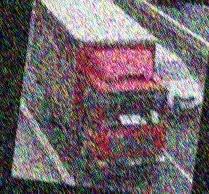truck: (16, 0, 183, 184)
